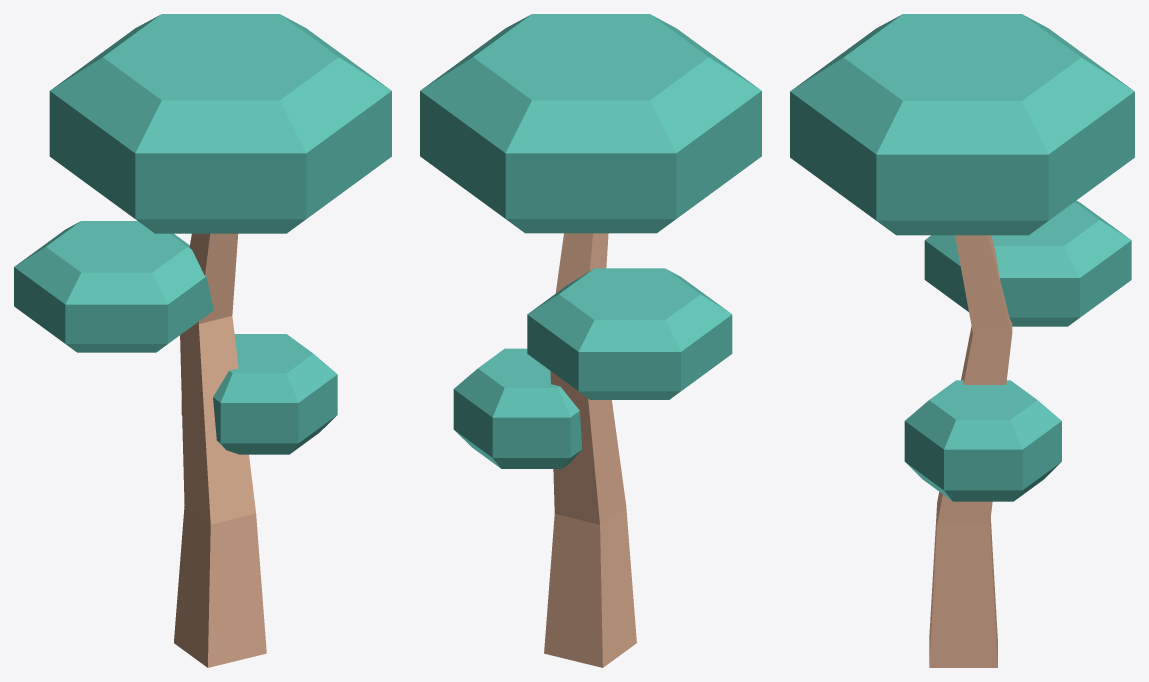
File: tree_plateau.glb
3 renders of one model, left to right at view 1: azimuth 30°, elevation 25°; view 2: azimuth 150°, elevation 25°; view 3: azimuth 270°, elevation 25°, orthographic.
Parts seen in each view (by area): view 1: tree_plateau; view 2: tree_plateau; view 3: tree_plateau.
Boxes of the visible parts, x1,y1,x2,y2 form: tree_plateau: [14, 14, 391, 667]; tree_plateau: [420, 14, 761, 667]; tree_plateau: [790, 14, 1134, 667].
Size of the model in its own units: 1.96 by 4 by 2.1.
